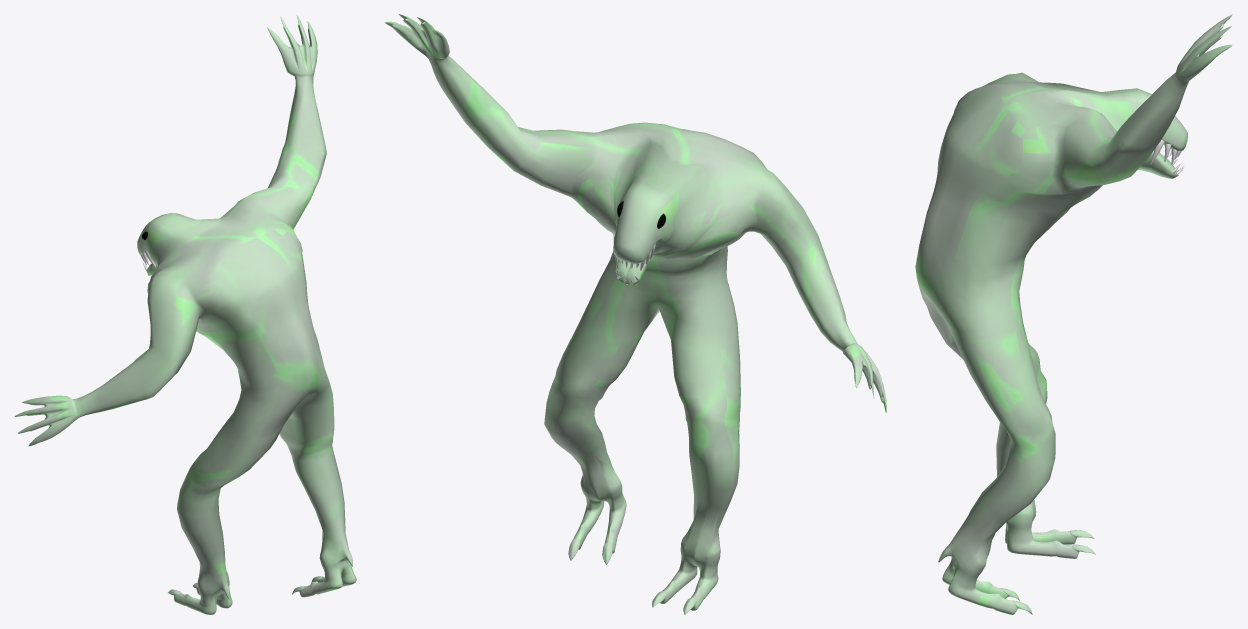
File: Berserkeraranar.0032.obj
The picture shows the model from 3 angles, left to right: view 1: azimuth 30°, elevation 25°; view 2: azimuth 150°, elevation 25°; view 3: azimuth 270°, elevation 25°; orthographic projection. The views are drawn at different scales.
Visible parts, largest first — view 1: polySurface27; view 2: polySurface27; view 3: polySurface27.
Boxes of the visible parts, x1,y1,x2,y2 form: polySurface27: (14, 14, 356, 614); polySurface27: (385, 14, 886, 614); polySurface27: (915, 14, 1232, 614).
Bounding box in the file's own units: 20.64 × 27.86 × 12.71.
1 material, 1 textured.
